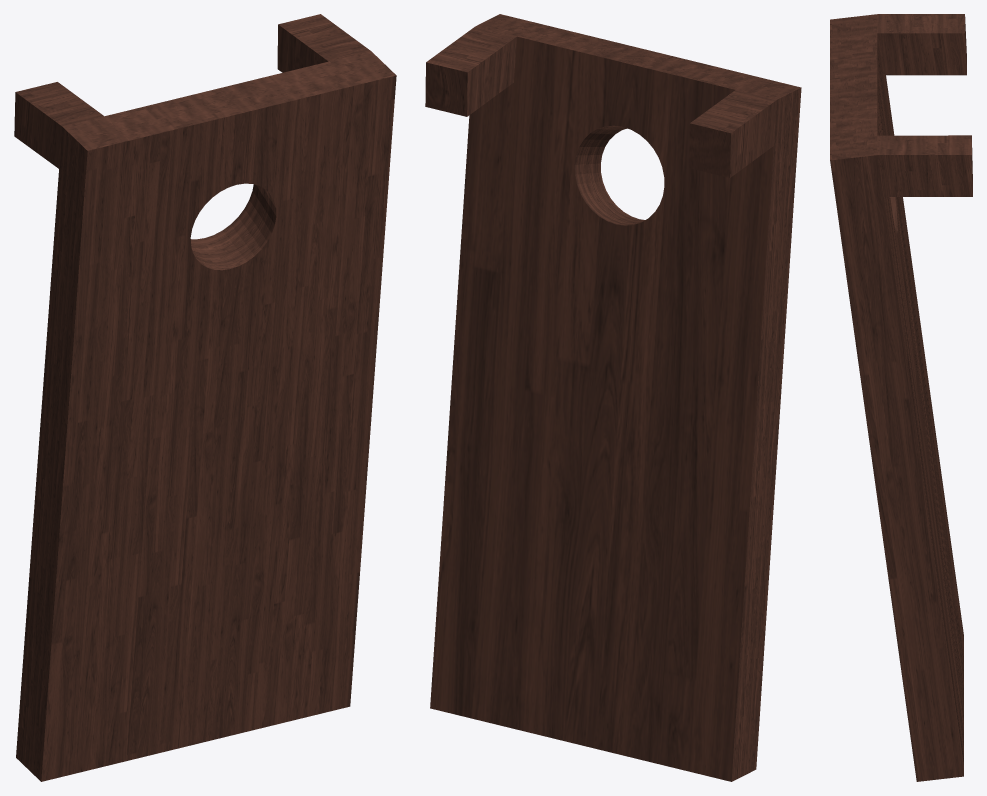
The model's file is Cornhole_Board_Keith.obj.
3 renders of one model, left to right at view 1: azimuth 30°, elevation 25°; view 2: azimuth 150°, elevation 25°; view 3: azimuth 270°, elevation 25°, orthographic. The views are drawn at different scales.
Parts seen in each view (by area): view 1: Cube_Cube.002; view 2: Cube_Cube.002; view 3: Cube_Cube.002.
Boxes of the visible parts, bbox=[...] form: Cube_Cube.002: bbox=[14, 14, 396, 781]; Cube_Cube.002: bbox=[425, 14, 801, 781]; Cube_Cube.002: bbox=[830, 14, 972, 781].
Size of the model in its own units: 125 by 260 by 53.6.
